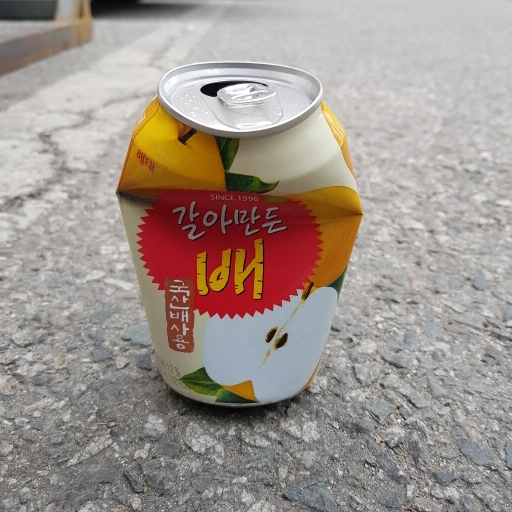Metal_0: (118, 59, 365, 410)
